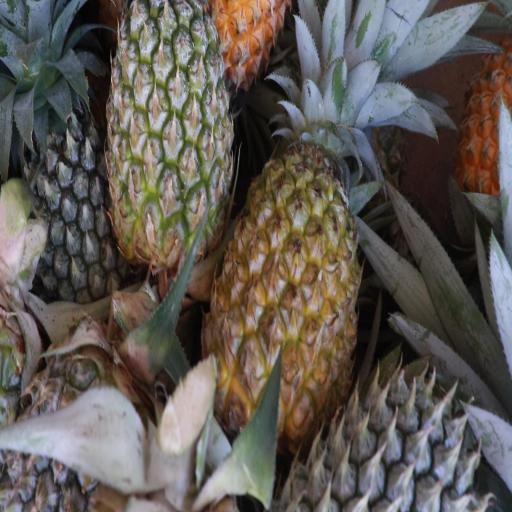------------------------------: (113, 0, 234, 275)
Pineapple - v8 v1: (210, 0, 365, 447)
